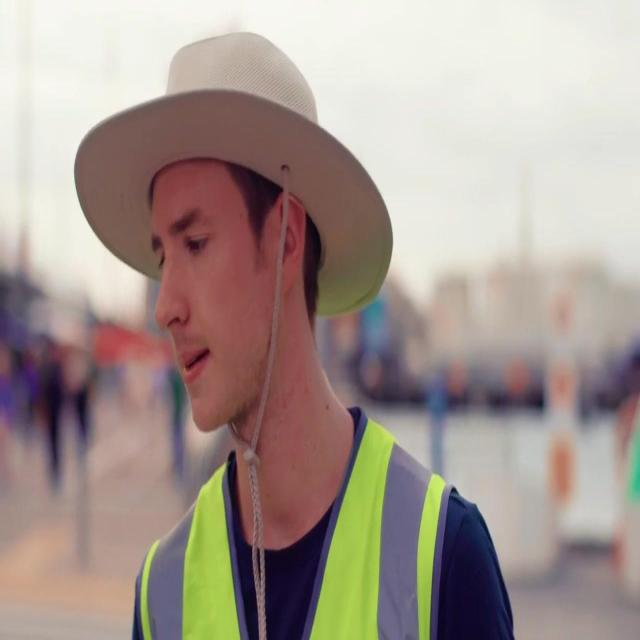Vest: (139, 410, 459, 637)
